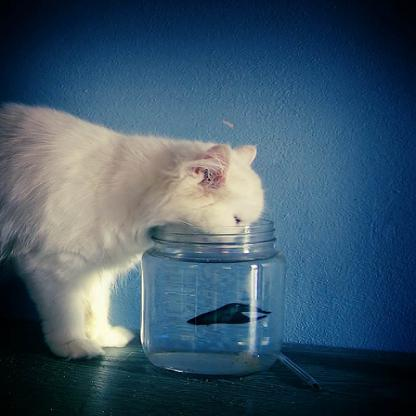cat: (0, 98, 267, 360)
